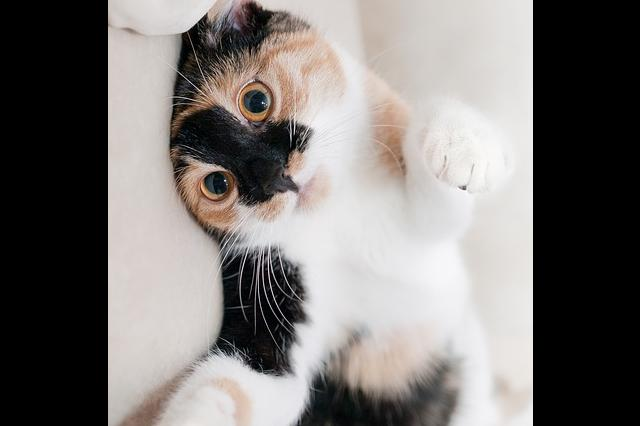cat: (141, 0, 519, 426)
